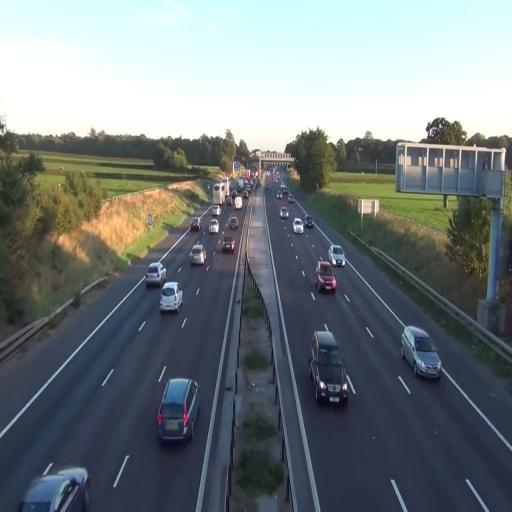vehicle: (18, 463, 90, 512), (308, 326, 352, 406), (18, 467, 90, 511), (157, 376, 200, 445), (309, 331, 348, 405), (158, 378, 199, 443), (400, 326, 442, 379), (402, 326, 441, 380), (160, 280, 184, 313), (315, 259, 337, 295), (160, 282, 182, 313), (315, 261, 336, 292), (145, 261, 167, 290), (145, 263, 166, 287), (328, 245, 346, 267), (328, 245, 345, 267), (190, 244, 206, 267), (190, 244, 205, 265), (213, 183, 226, 204), (222, 236, 236, 254), (292, 217, 304, 234), (223, 237, 235, 253), (222, 178, 231, 196), (190, 218, 200, 233), (293, 218, 303, 233), (191, 217, 201, 231), (304, 218, 314, 231), (209, 220, 219, 233), (229, 217, 238, 230), (280, 207, 289, 219), (305, 215, 313, 228), (212, 205, 221, 216), (235, 197, 242, 209), (237, 178, 243, 189), (288, 195, 294, 203), (280, 182, 286, 190), (231, 190, 237, 198), (245, 170, 250, 179), (283, 188, 289, 195), (227, 197, 232, 205), (249, 180, 254, 187), (243, 191, 248, 198), (277, 192, 282, 199), (246, 185, 251, 192), (265, 183, 269, 189)
